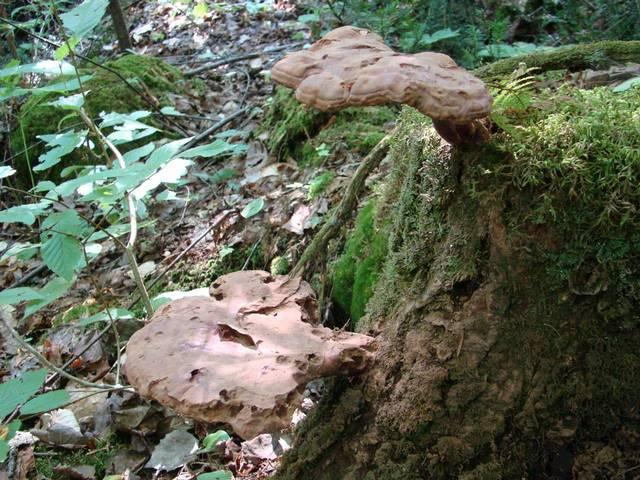Non-edible Mushroom: (115, 263, 369, 428), (269, 24, 494, 151)
